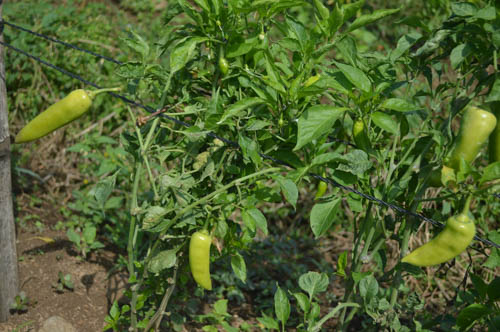ChiliPepper: (393, 218, 479, 272), (9, 90, 91, 137), (456, 106, 494, 177), (185, 233, 214, 291)
